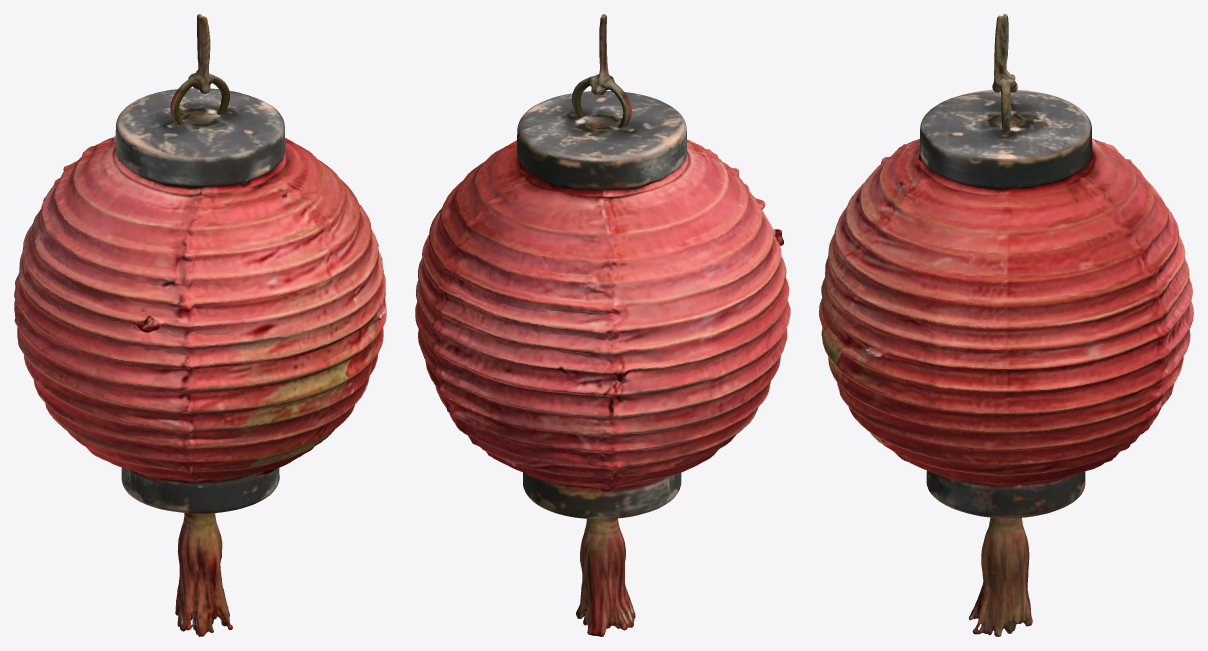
Rendered from hanging-lantern.glb.
3 views of the same model, side by side, from view 1: azimuth 30°, elevation 25°; view 2: azimuth 150°, elevation 25°; view 3: azimuth 270°, elevation 25° (orthographic).
Parts seen in each view (by area): view 1: geometry_0; view 2: geometry_0; view 3: geometry_0.
Boxes of the visible parts, x1,y1,x2,y2 form: geometry_0: [14, 14, 386, 636]; geometry_0: [415, 14, 790, 636]; geometry_0: [819, 14, 1193, 636].
Size of the model in its own units: 0.1941 by 0.35 by 0.1944.
1 material, 1 textured.
